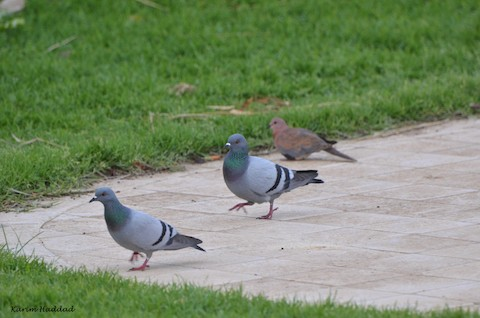pigeon: (86, 186, 210, 272), (218, 132, 326, 222), (265, 114, 360, 163)
